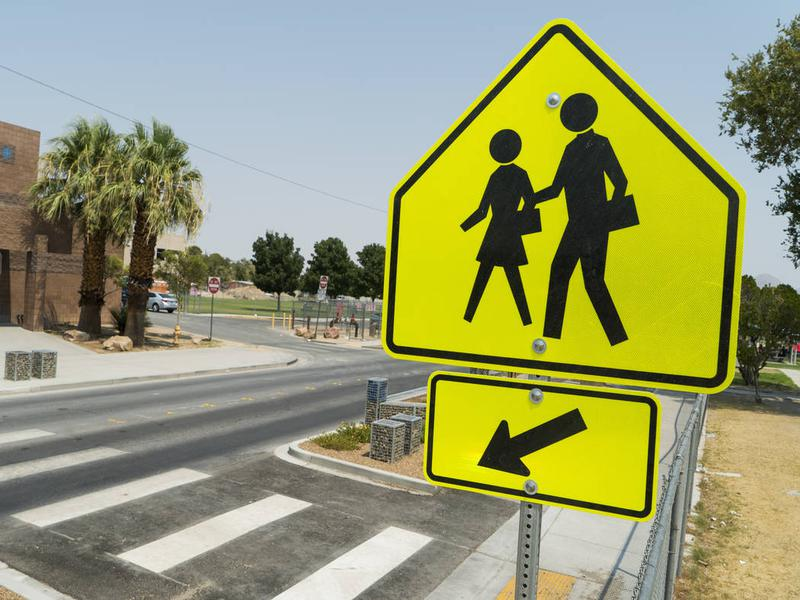slow: (373, 20, 747, 384)
